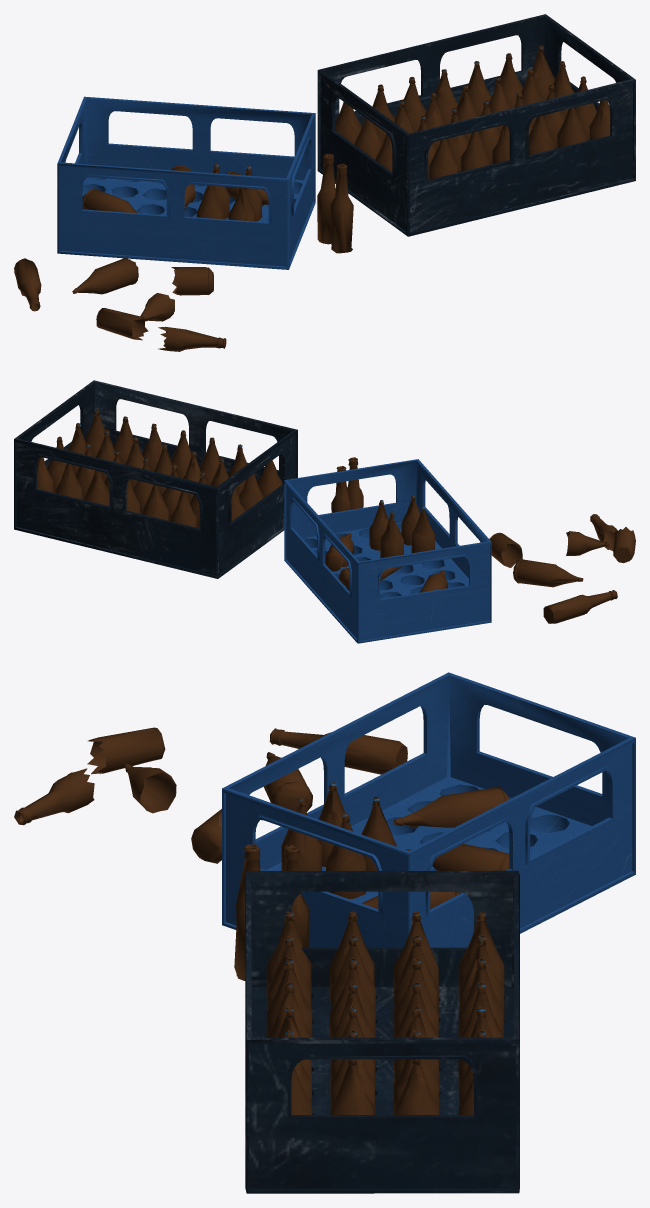
File: abandoned_beer_crates__bottles_low_poly-optimized.glb
The picture shows the model from 3 angles, top to bottom: view 1: azimuth 30°, elevation 25°; view 2: azimuth 150°, elevation 25°; view 3: azimuth 270°, elevation 25°; orthographic projection. The views are drawn at different scales.
Size of the model in its own units: 5.85 by 0.9512 by 3.48.
4 materials, 2 textured.
